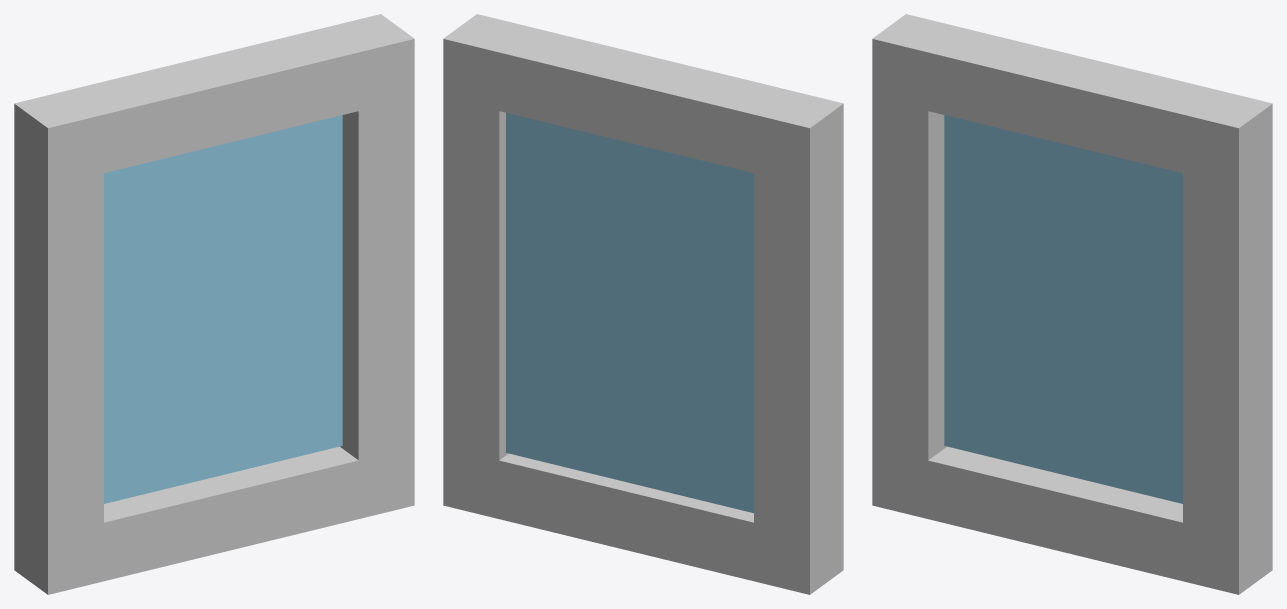
File: v7-fonster-modul-kenney.glb
3 views of the same model, side by side, from view 1: azimuth 30°, elevation 25°; view 2: azimuth 150°, elevation 25°; view 3: azimuth 330°, elevation 25° (orthographic).
Parts seen in each view (by area): view 1: Window_Module; view 2: Window_Module; view 3: Window_Module.
Boxes of the visible parts, bbox=[...] form: Window_Module: bbox=[14, 14, 414, 594]; Window_Module: bbox=[443, 14, 843, 594]; Window_Module: bbox=[872, 14, 1272, 594].
Size of the model in its own units: 0.3125 by 0.38 by 0.05.
